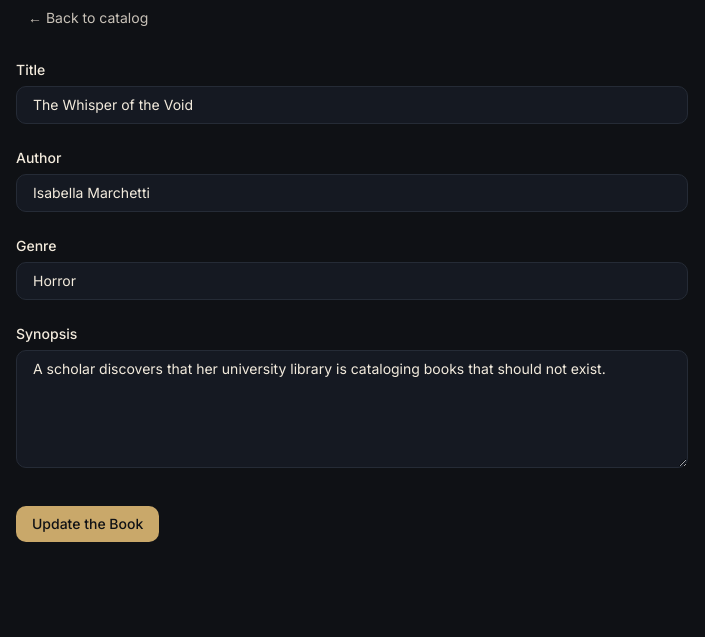
Test: BookForm in edit mode › shows a form-level conflict error through an alert
The image size is (705, 637).
Click the button "Update the Book". click: click(88, 524)
box: [16,506,159,542]
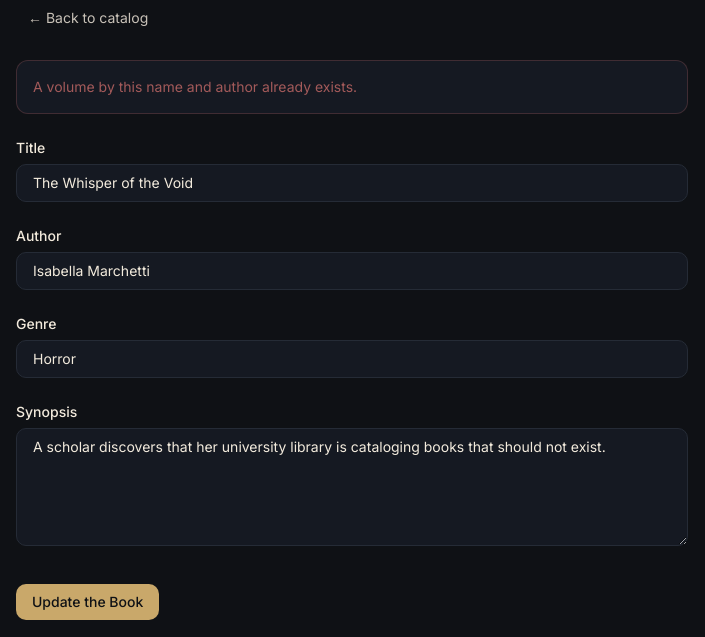
Expected: the message reads "A volume by this name and author already exists.", [33,78,357,95]
